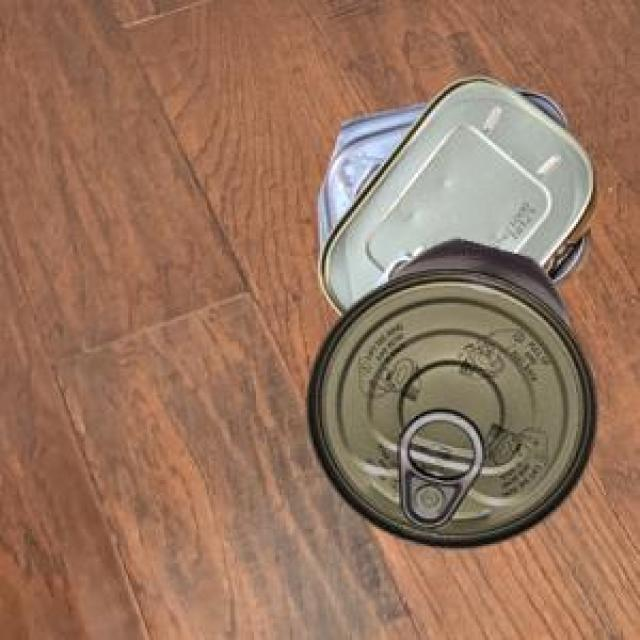logam: (304, 236, 594, 545), (315, 74, 596, 313)
